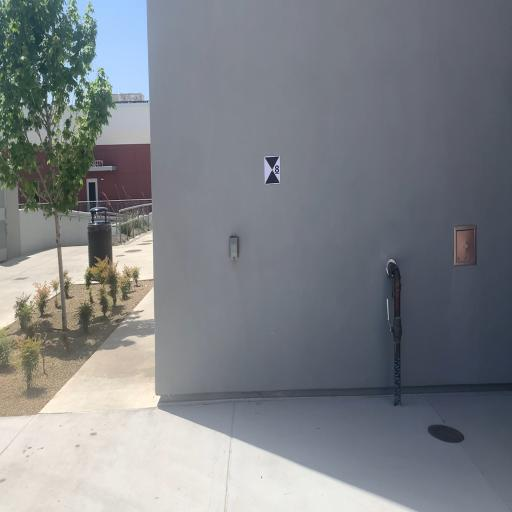target8: (264, 155, 281, 184)
